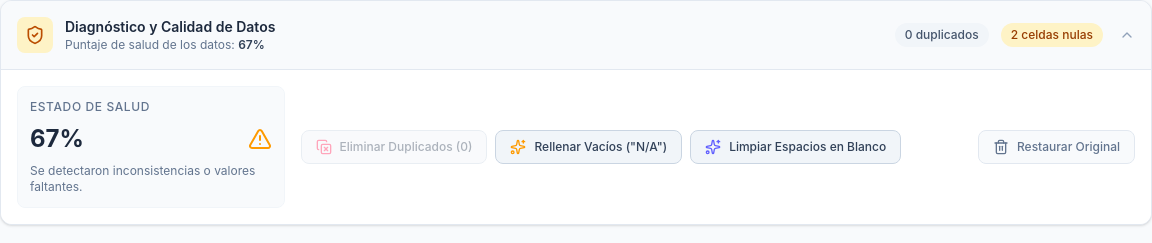
Componente DataQuality › debe ejecutar el rellenado de nulos al hacer clic en 'Rellenar Vacíos'
Click the button "Rellenar Vacíos (\"N/A\")": (589, 147) [496,130,682,164]
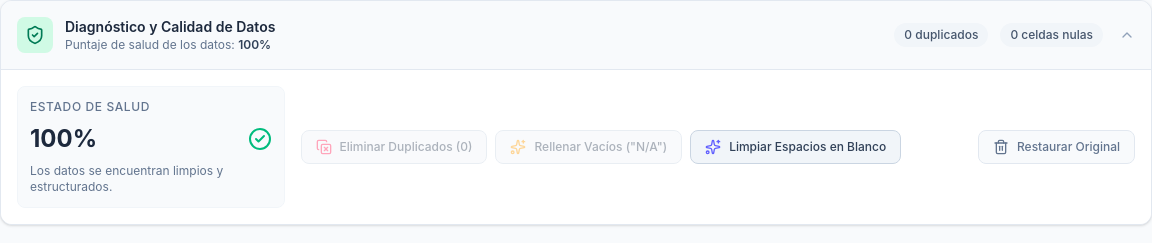
Expected: the text "0 celdas nulas" is shown, [1000,23,1103,47]
